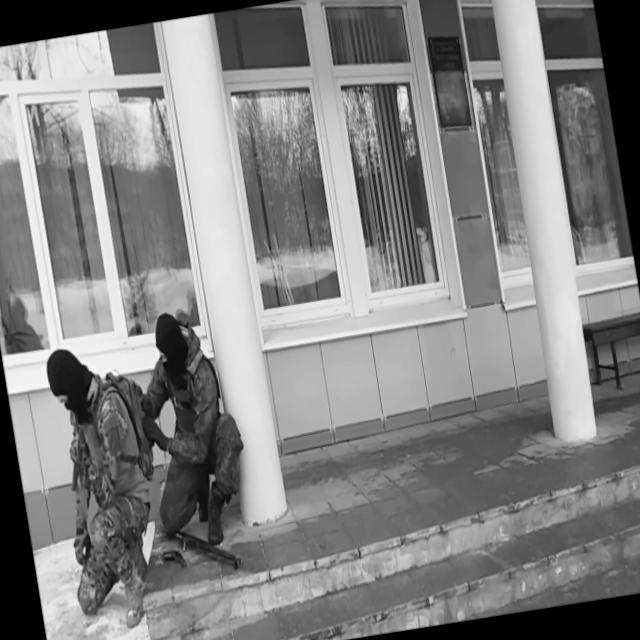gun: (157, 508, 246, 584), (62, 424, 100, 497), (160, 543, 189, 575)
person with a gun: (38, 335, 180, 635)
